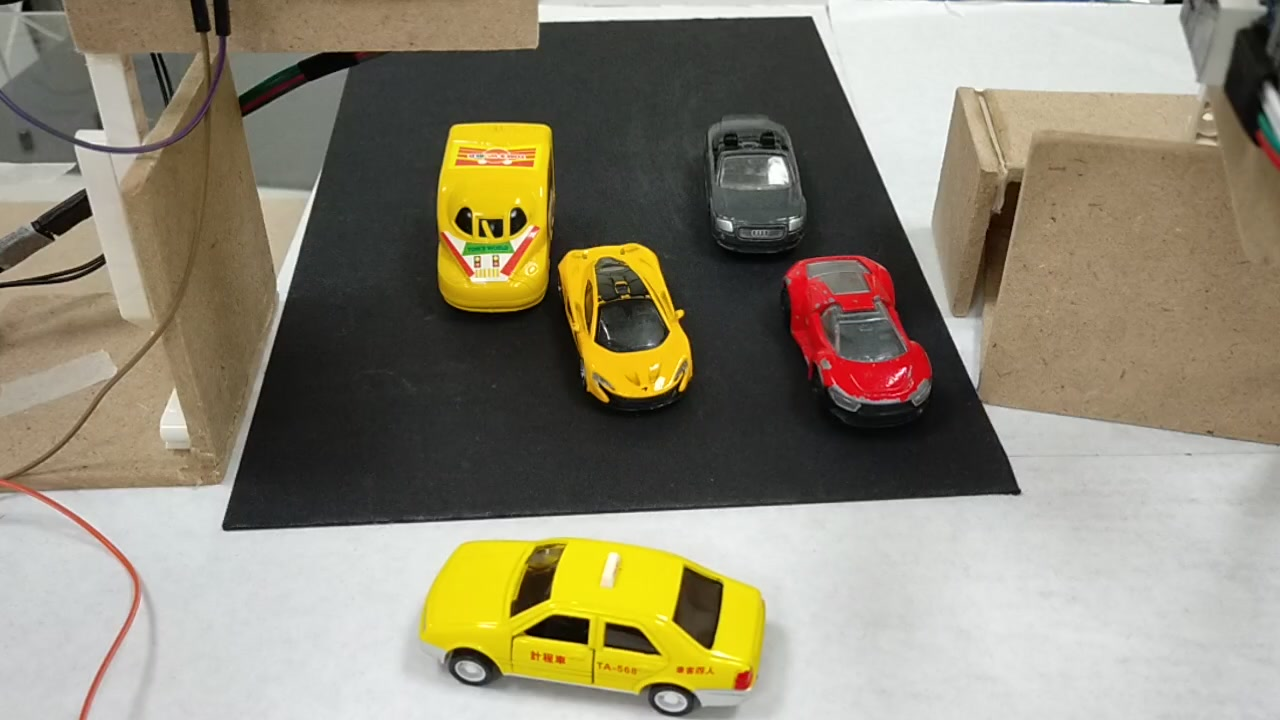car: (415, 530, 766, 714), (561, 244, 696, 410), (792, 259, 932, 415), (700, 115, 812, 263)
